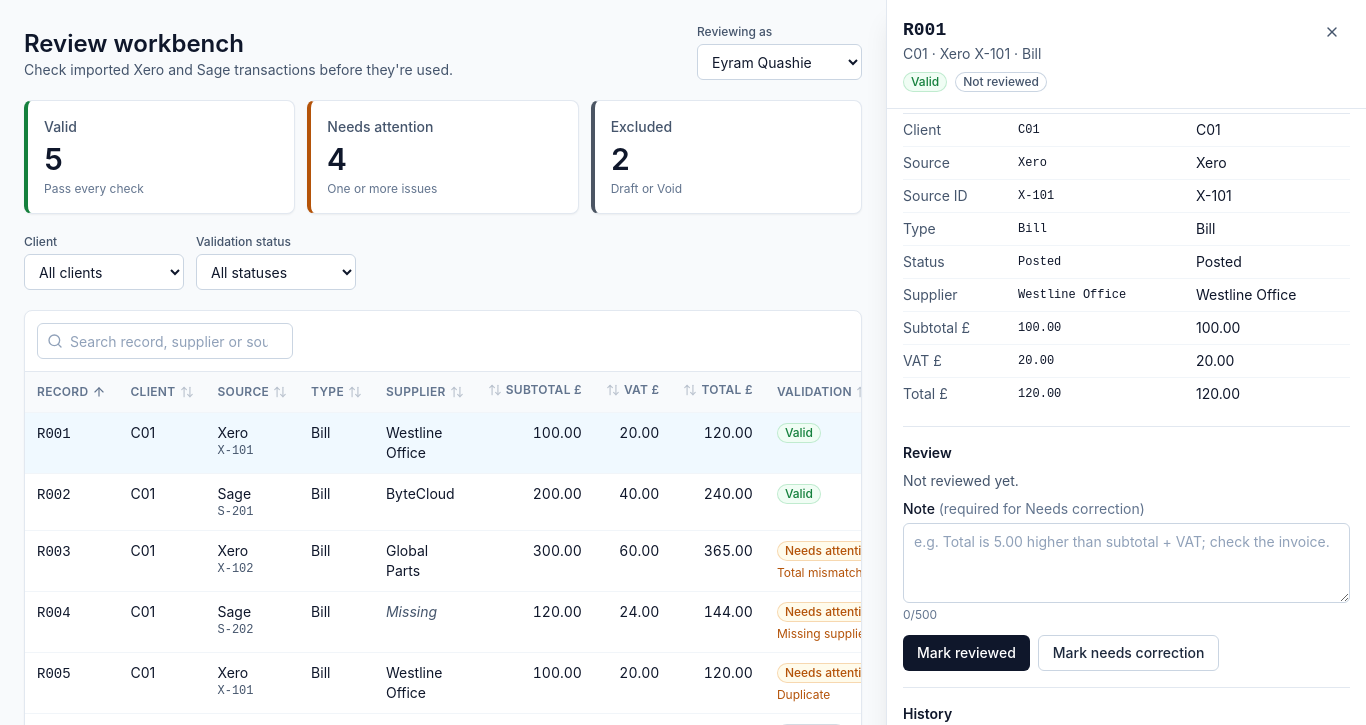
Test: Record detail panel › reviewing › shows a refusal from the API as a message
(page scrolled)
Expected: the text "R001" is shown, [37, 426, 71, 442]
Expected: the dropdown labelled "Reviewing as" is enabled, [697, 44, 862, 80]
Click the button "Mark reviewed". click: (966, 653)
box: [903, 635, 1030, 671]
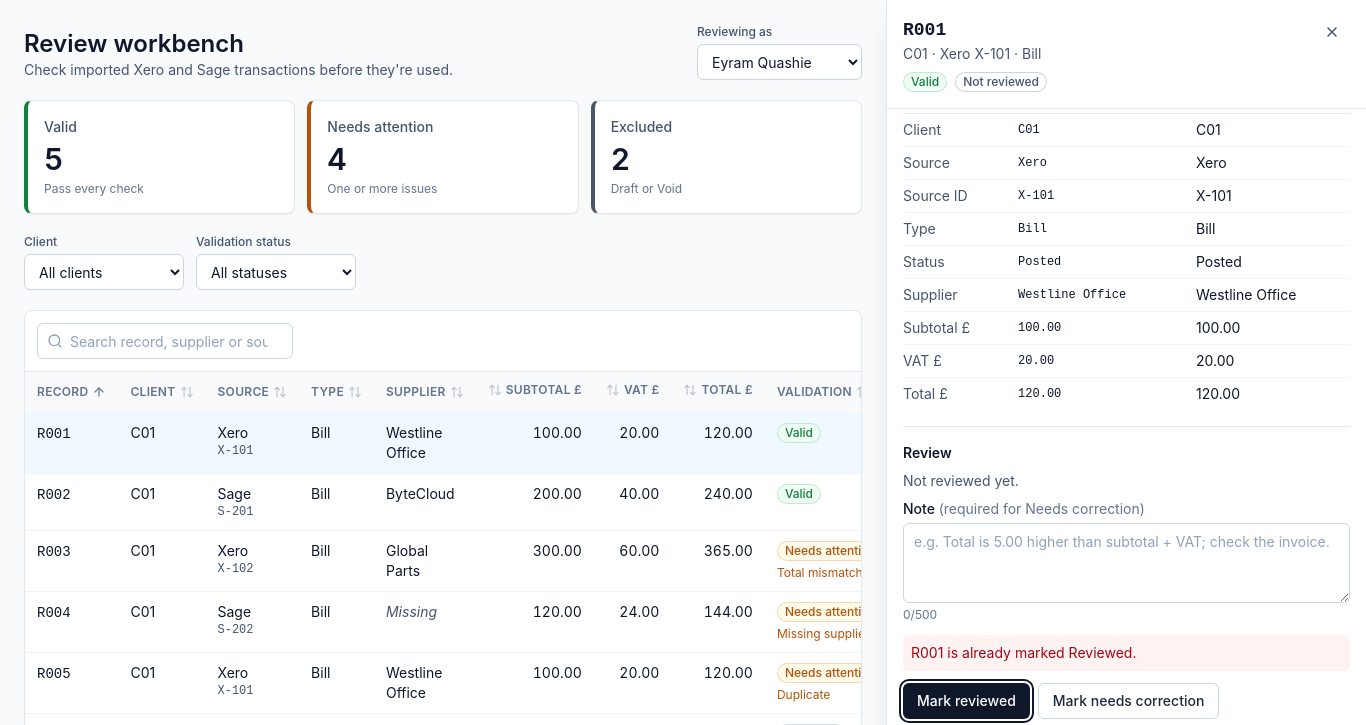
Now the message reads "R001 is already marked Reviewed.", box [911, 644, 1136, 661]
